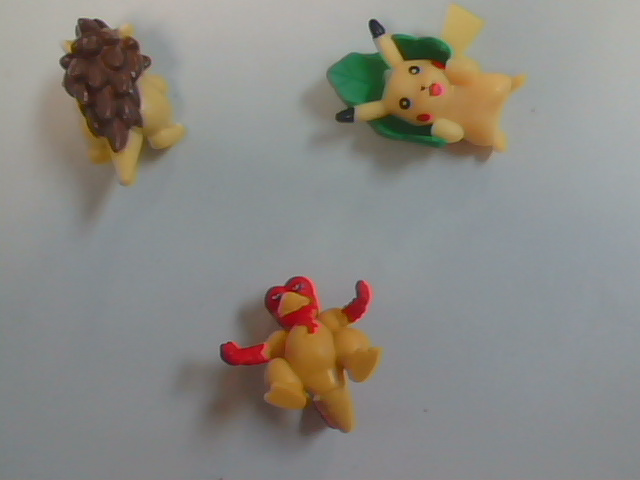magmar: (206, 252, 436, 453)
pikachu: (326, 10, 530, 217)
sandslash: (31, 10, 213, 205)
